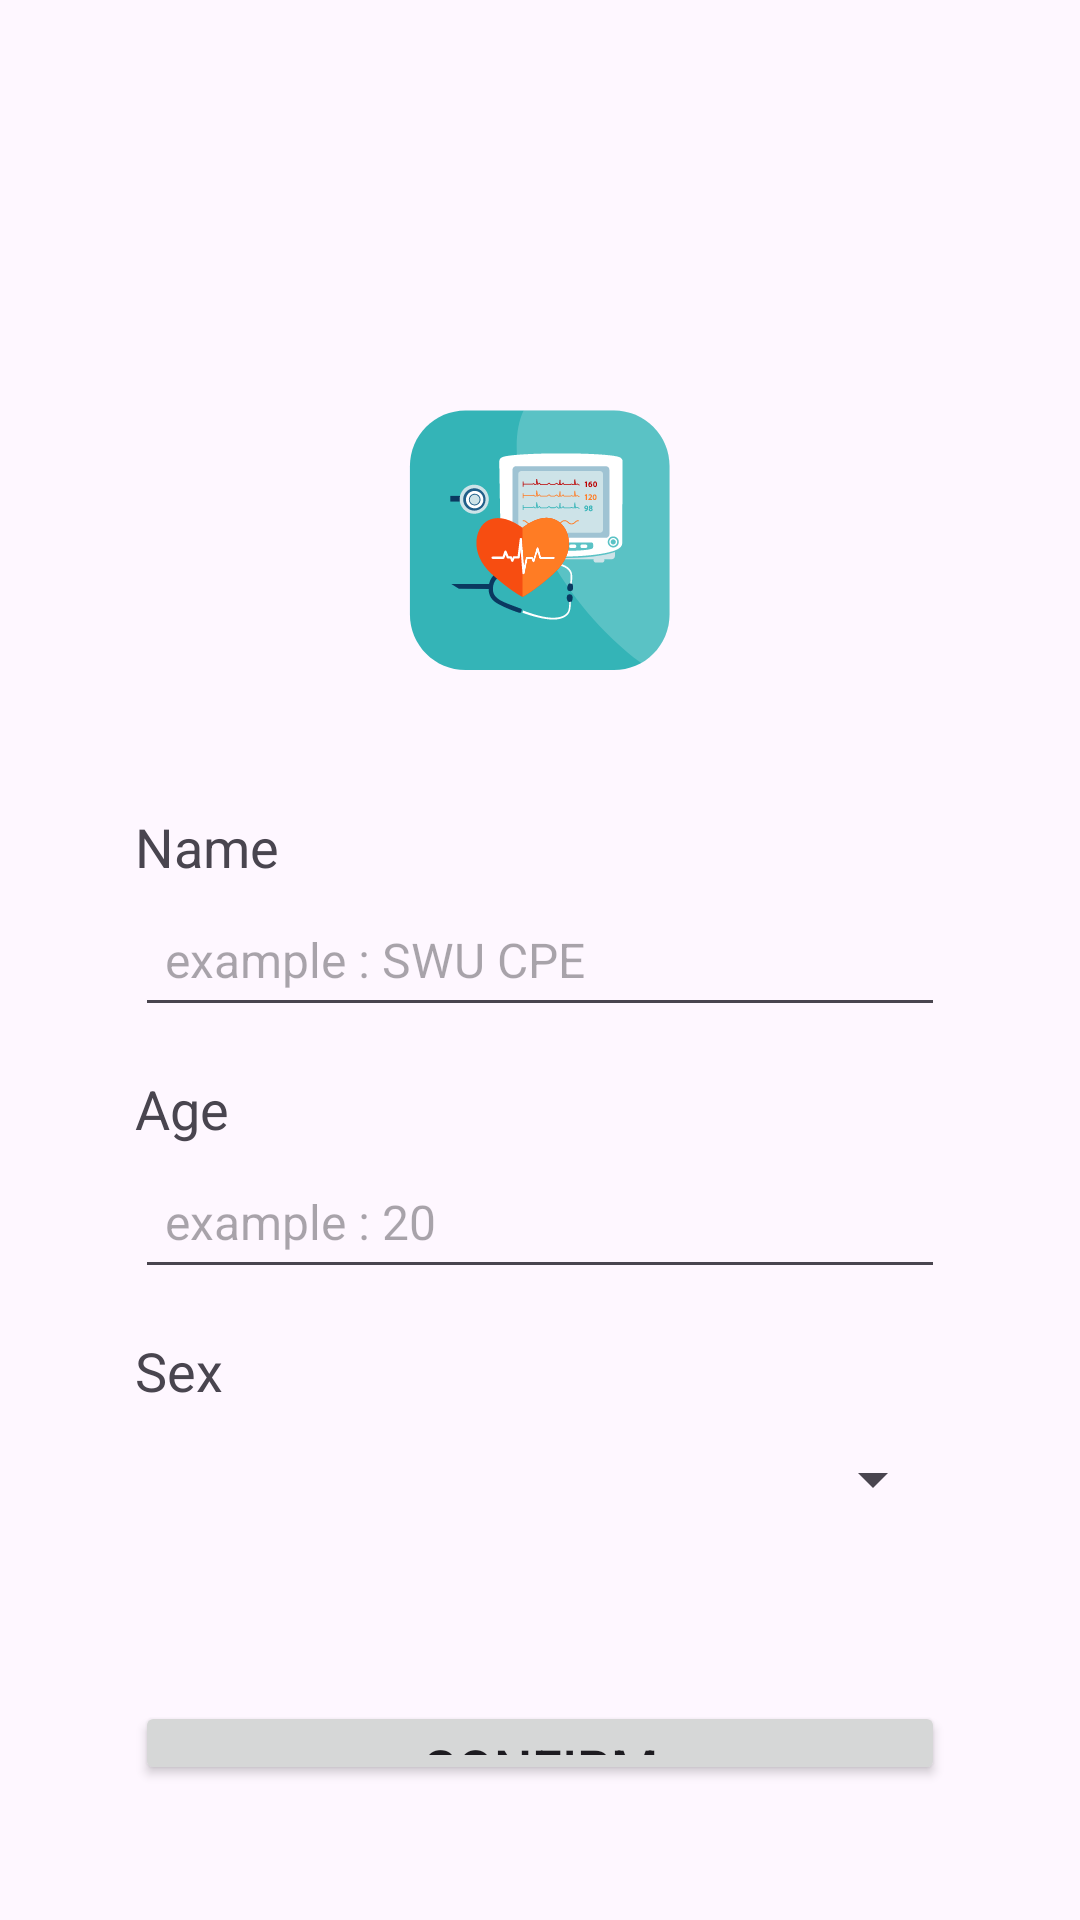

Named icons in this screenshot (1080 x 1920) and their bounding boxes, (x1, y1, x2, y2):
iconapp: (410, 410, 670, 670)
